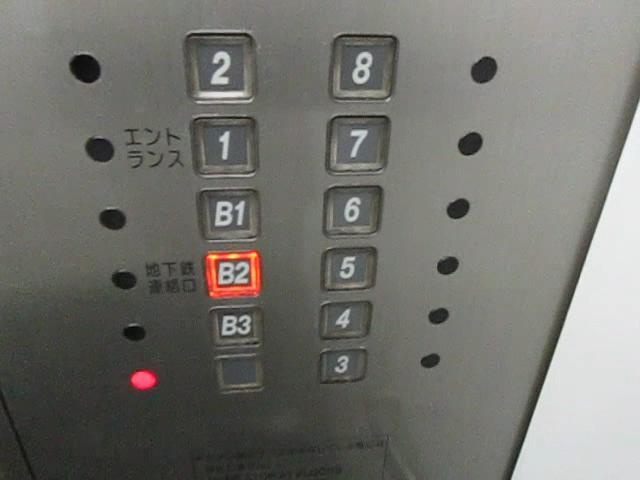1: (191, 113, 260, 178)
2: (185, 29, 259, 105)
3: (317, 345, 370, 388)
4: (317, 297, 374, 340)
5: (319, 243, 378, 294)
6: (322, 184, 385, 237)
7: (326, 113, 390, 174)
8: (329, 33, 399, 103)
B1: (197, 188, 264, 244)
B2: (202, 249, 264, 300)
B3: (208, 305, 267, 349)
empty: (213, 351, 266, 393)
